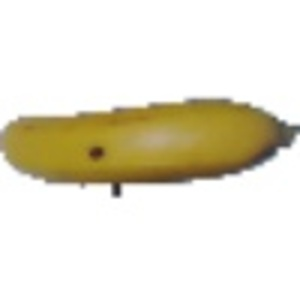banana: (3, 94, 294, 187)
